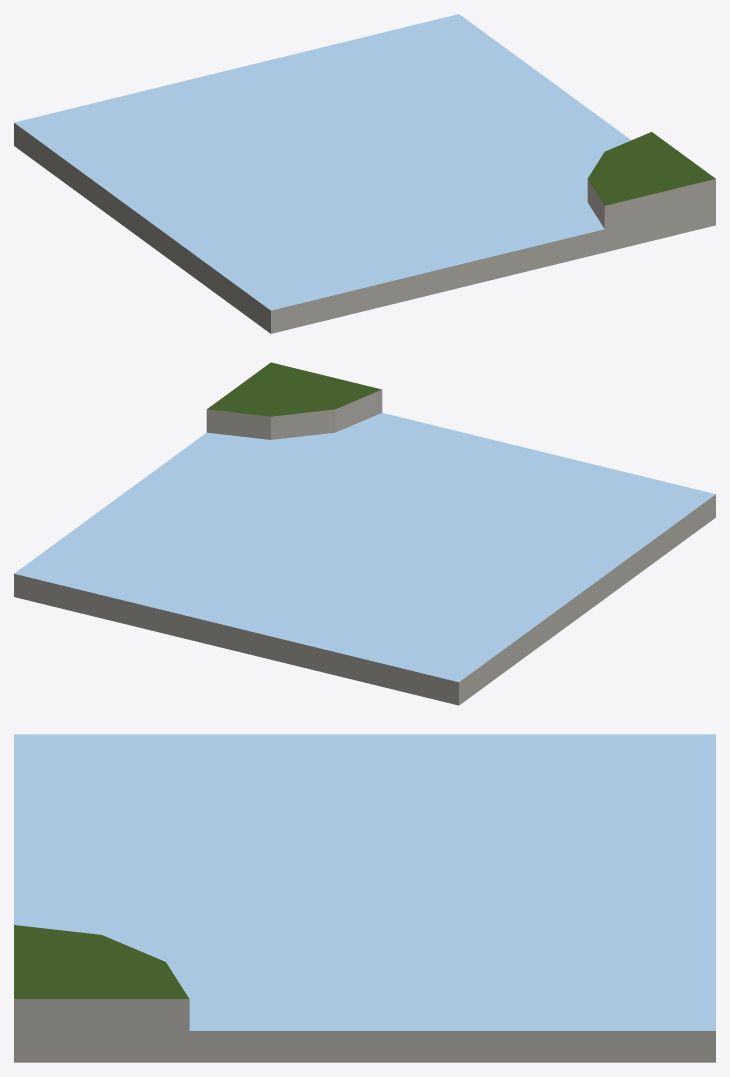
File: Terrain_Modular_Tiles_Grass_Rock_Water_Edge_Corner_Inner_01.fbx
3 renders of one model, top to bottom at view 1: azimuth 30°, elevation 25°; view 2: azimuth 150°, elevation 25°; view 3: azimuth 270°, elevation 25°, orthographic. The views are drawn at different scales.
Visible parts, largest first — view 1: Terrain_Modular_Tiles_Grass_Rock_Water_Edge_Corner_Inner_01; view 2: Terrain_Modular_Tiles_Grass_Rock_Water_Edge_Corner_Inner_01; view 3: Terrain_Modular_Tiles_Grass_Rock_Water_Edge_Corner_Inner_01.
Boxes of the visible parts, <box> form: Terrain_Modular_Tiles_Grass_Rock_Water_Edge_Corner_Inner_01: <box>14,14,715,333</box>; Terrain_Modular_Tiles_Grass_Rock_Water_Edge_Corner_Inner_01: <box>14,362,715,705</box>; Terrain_Modular_Tiles_Grass_Rock_Water_Edge_Corner_Inner_01: <box>14,734,715,1062</box>.
Bounding box in the file's own units: 3000 × 300 × 3000.
